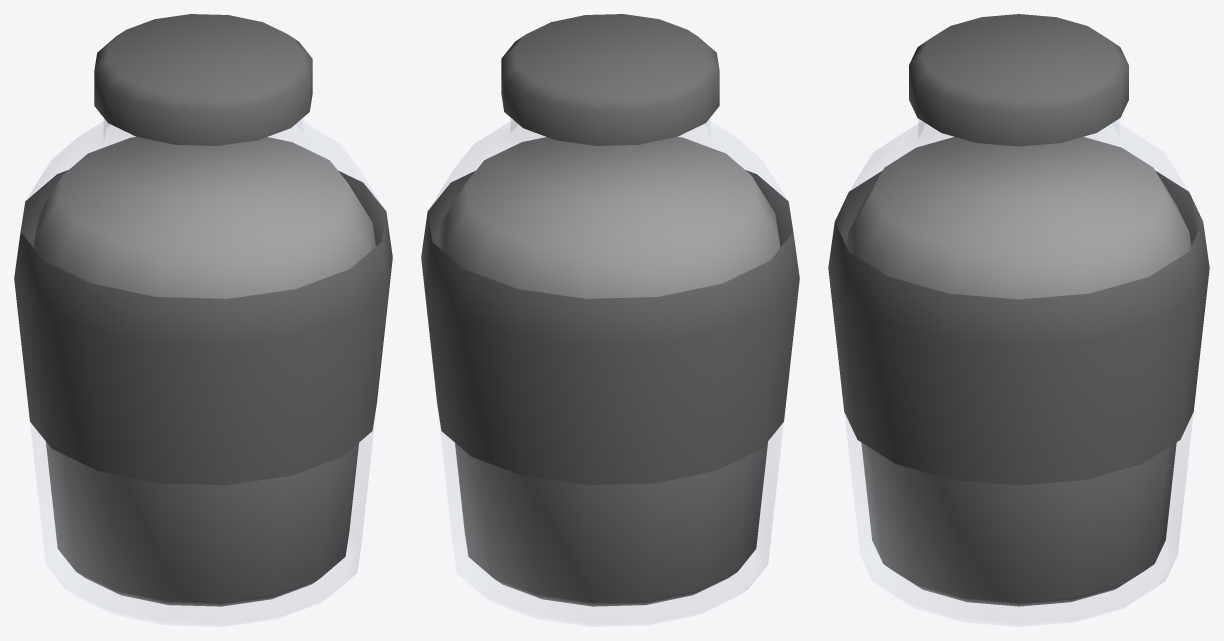
Rendered from bottle1.fbx.
3 views of the same model, side by side, from view 1: azimuth 30°, elevation 25°; view 2: azimuth 150°, elevation 25°; view 3: azimuth 270°, elevation 25° (orthographic).
Parts seen in each view (by area): view 1: Bottle-1; view 2: Bottle-1; view 3: Bottle-1.
Part boxes in pixels (x1,y1,x2,y2): Bottle-1: (14,14,392,626); Bottle-1: (421,14,799,626); Bottle-1: (828,14,1209,626).
Size of the model in its own units: 214 by 315 by 214.
